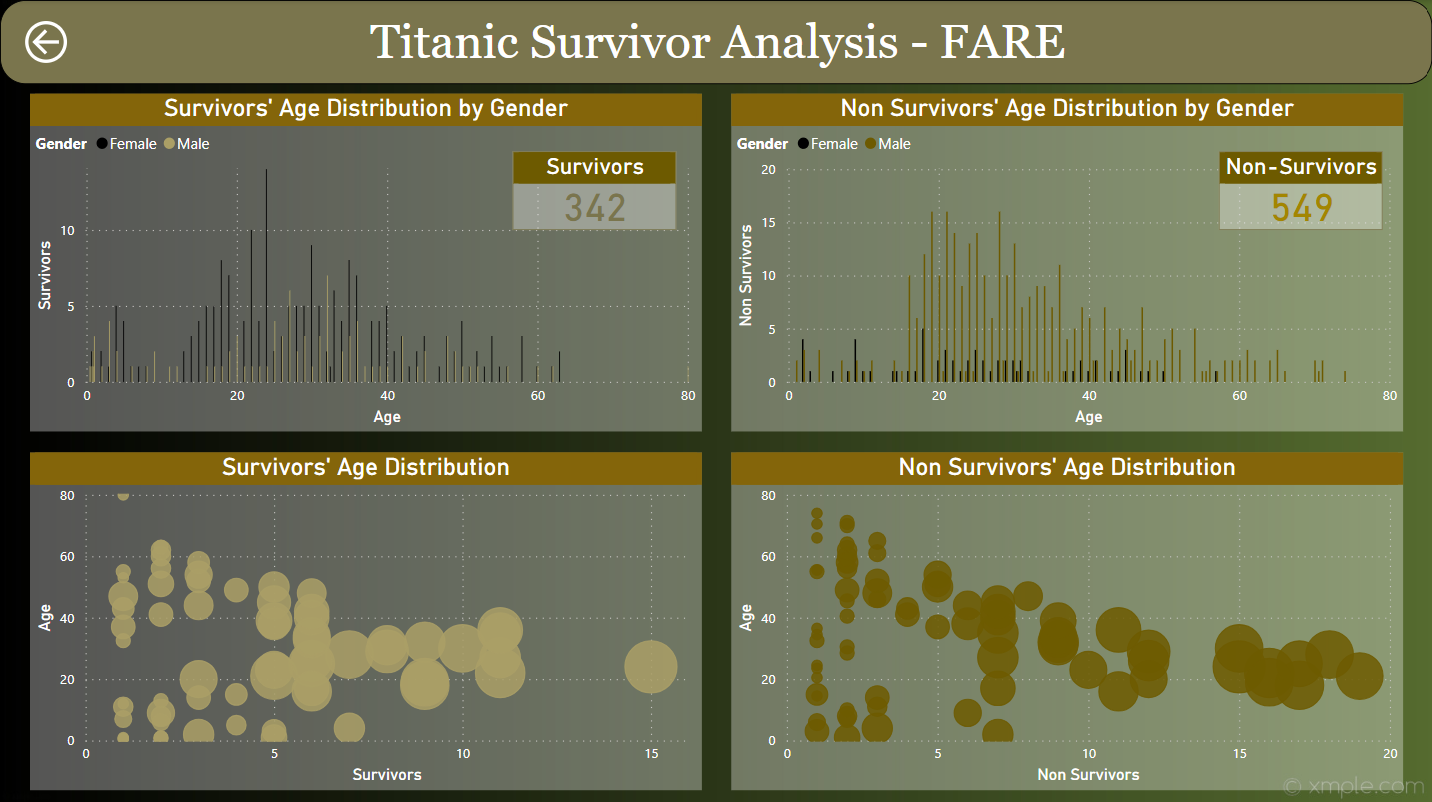

Layout of this report page (visuals, bound fields, positions):
{"tool":"powerbi","page":{"name":"Page 6","canvas":[1280,720],"ordinal":5},"visuals":[{"type":"textbox","box":[0,0,1280,75],"z":0},{"type":"actionButton","box":[16.2,12.5,48.8,50],"z":1},{"type":"scatterChart","title":"Survivors'' Age Distribution","fields":{"X":["train.Survivors"],"Y":["train.Age"],"Size":["train.Total Passengers"]},"box":[26.2,403.8,600,301.2],"z":2},{"type":"clusteredColumnChart","title":"Survivors'' Age Distribution by  Gender","fields":{"Category":["train.Age"],"Y":["train.Survivors"],"Series":["train.Gender"]},"box":[26.2,83.8,600,301.2],"z":3},{"type":"clusteredColumnChart","title":"Non Survivors'' Age Distribution by  Gender","fields":{"Category":["train.Age"],"Series":["train.Gender"],"Y":["train.Non Survivors"]},"box":[652.5,83.8,600,301.2],"z":4},{"type":"scatterChart","title":"Non Survivors'' Age Distribution","fields":{"Y":["train.Age"],"X":["train.Non Survivors"],"Size":["train.Total Passengers"]},"box":[652.5,403.8,600,301.2],"z":6},{"type":"card","title":"Survivors","fields":{"Values":["train.Survivors"]},"box":[457.5,135,146.2,70],"z":7},{"type":"card","title":"Non-Survivors","fields":{"Values":["train.Non Survivors"]},"box":[1088.8,135,146.2,70],"z":8}]}

Visuals, with their boxes in screenshot pixels (x1, y1, x2, y2), scaled from the page's 1280x720 canvas onto the 1432x802 screenshot:
textbox: <bbox>0, 0, 1431, 84</bbox>
actionButton: <bbox>18, 14, 73, 70</bbox>
"Survivors'' Age Distribution" scatterChart: <bbox>29, 450, 701, 785</bbox>
"Survivors'' Age Distribution by  Gender" clusteredColumnChart: <bbox>29, 93, 701, 429</bbox>
"Non Survivors'' Age Distribution by  Gender" clusteredColumnChart: <bbox>730, 93, 1401, 429</bbox>
"Non Survivors'' Age Distribution" scatterChart: <bbox>730, 450, 1401, 785</bbox>
"Survivors" card: <bbox>512, 150, 675, 228</bbox>
"Non-Survivors" card: <bbox>1218, 150, 1382, 228</bbox>
